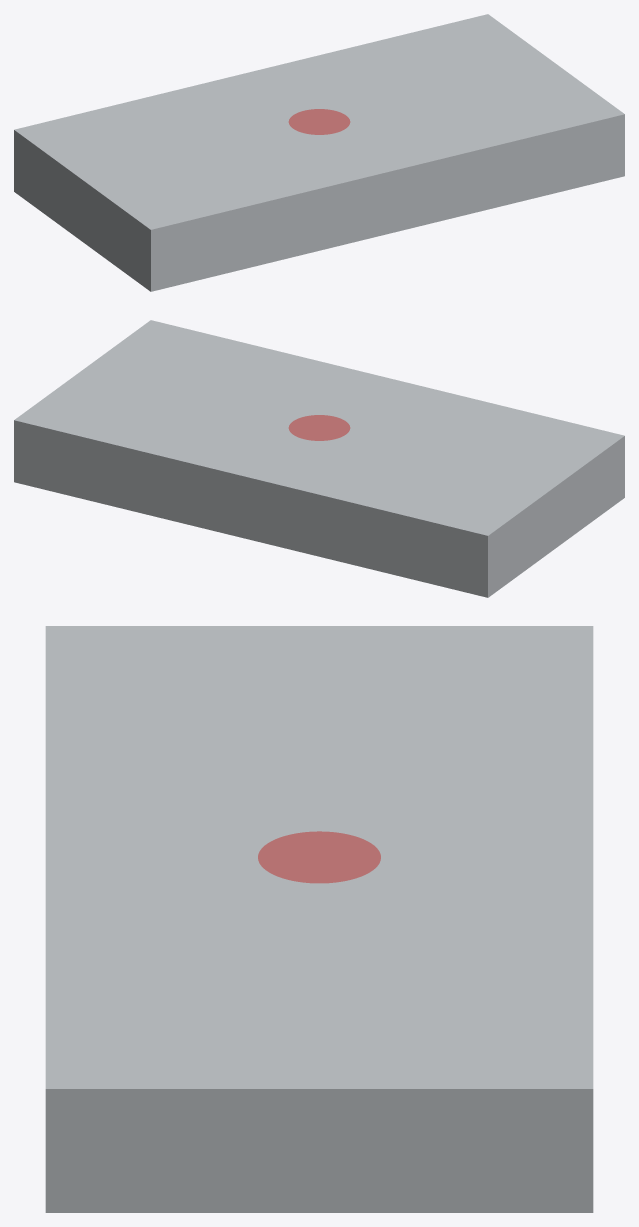
The model's file is step_03.glb.
The picture shows the model from 3 angles, top to bottom: view 1: azimuth 30°, elevation 25°; view 2: azimuth 150°, elevation 25°; view 3: azimuth 270°, elevation 25°; orthographic projection. The views are drawn at different scales.
Visible parts, largest first — view 1: part__plate, removed__plate; view 2: part__plate, removed__plate; view 3: part__plate, removed__plate.
Boxes of the visible parts, <box> form: part__plate: <box>14,14,624,291</box>; removed__plate: <box>288,109,350,134</box>; part__plate: <box>14,320,624,597</box>; removed__plate: <box>288,415,350,440</box>; part__plate: <box>45,626,593,1212</box>; removed__plate: <box>258,831,380,883</box>.
Bounding box in the file's own units: 80 × 10 × 40.
